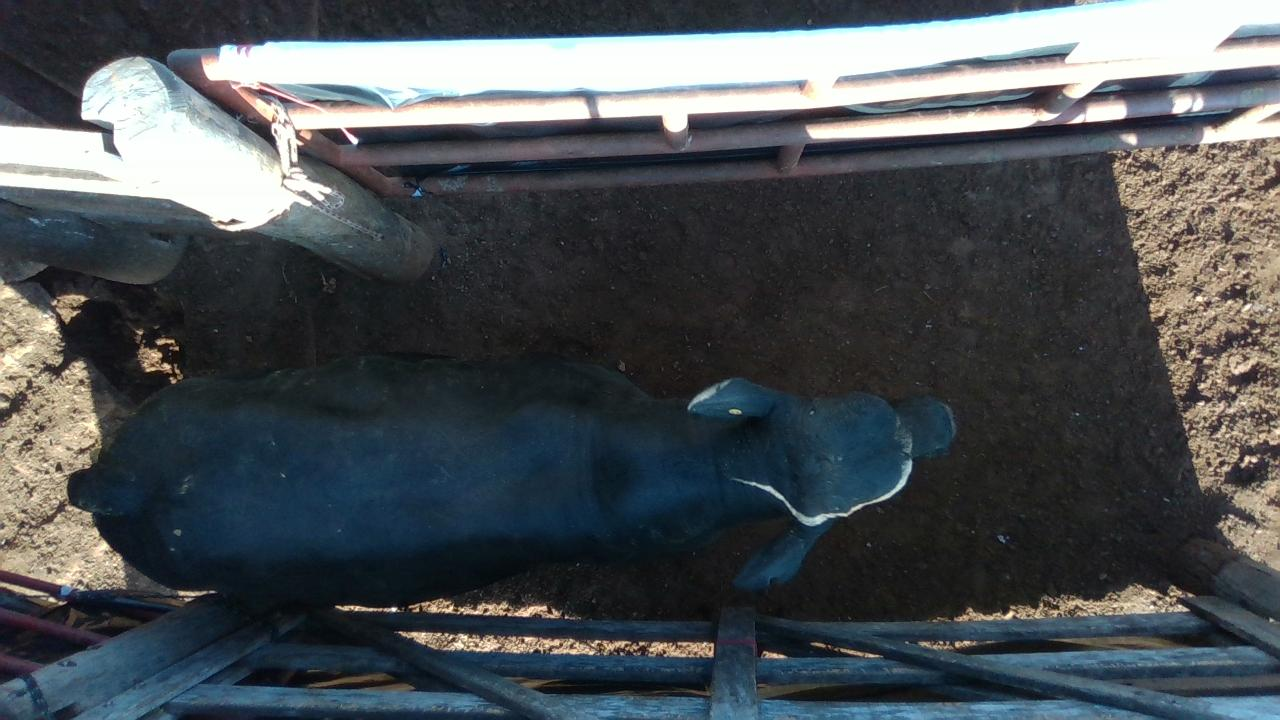cattle: (66, 350, 957, 614)
